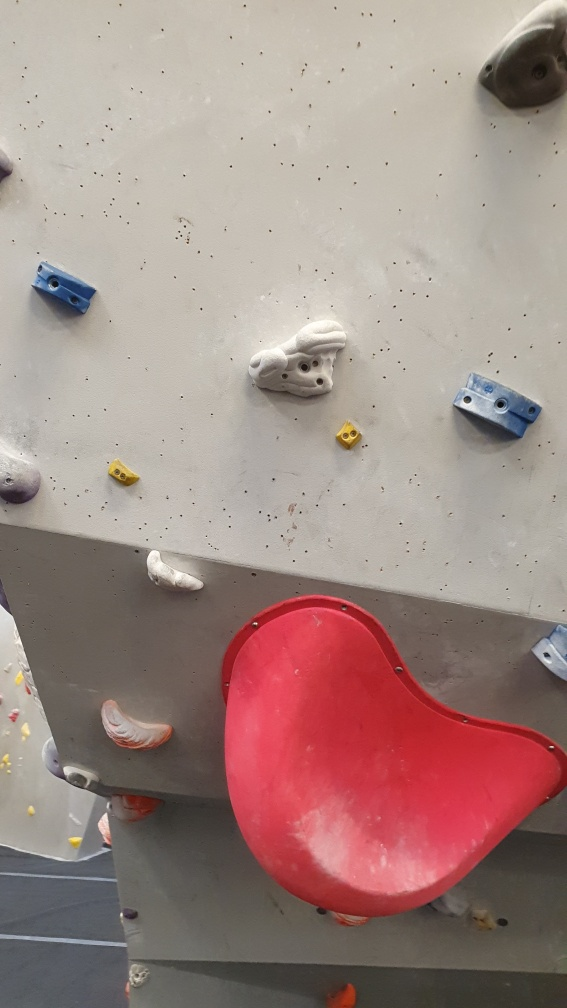Crimp: (104, 457, 147, 491)
Jug: (473, 1, 567, 119), (244, 315, 354, 404), (96, 696, 175, 752), (142, 546, 209, 601)
Pinch: (452, 370, 545, 440), (30, 256, 101, 320), (528, 620, 567, 681), (334, 418, 365, 459)
